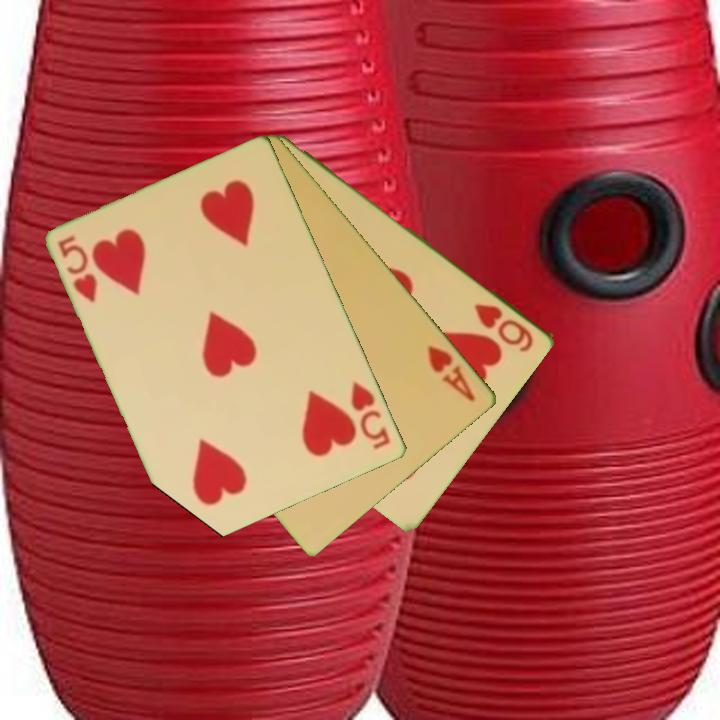5h: (348, 378, 394, 453), (55, 232, 101, 306)
6h: (471, 299, 537, 355)
Ah: (424, 341, 479, 405)
